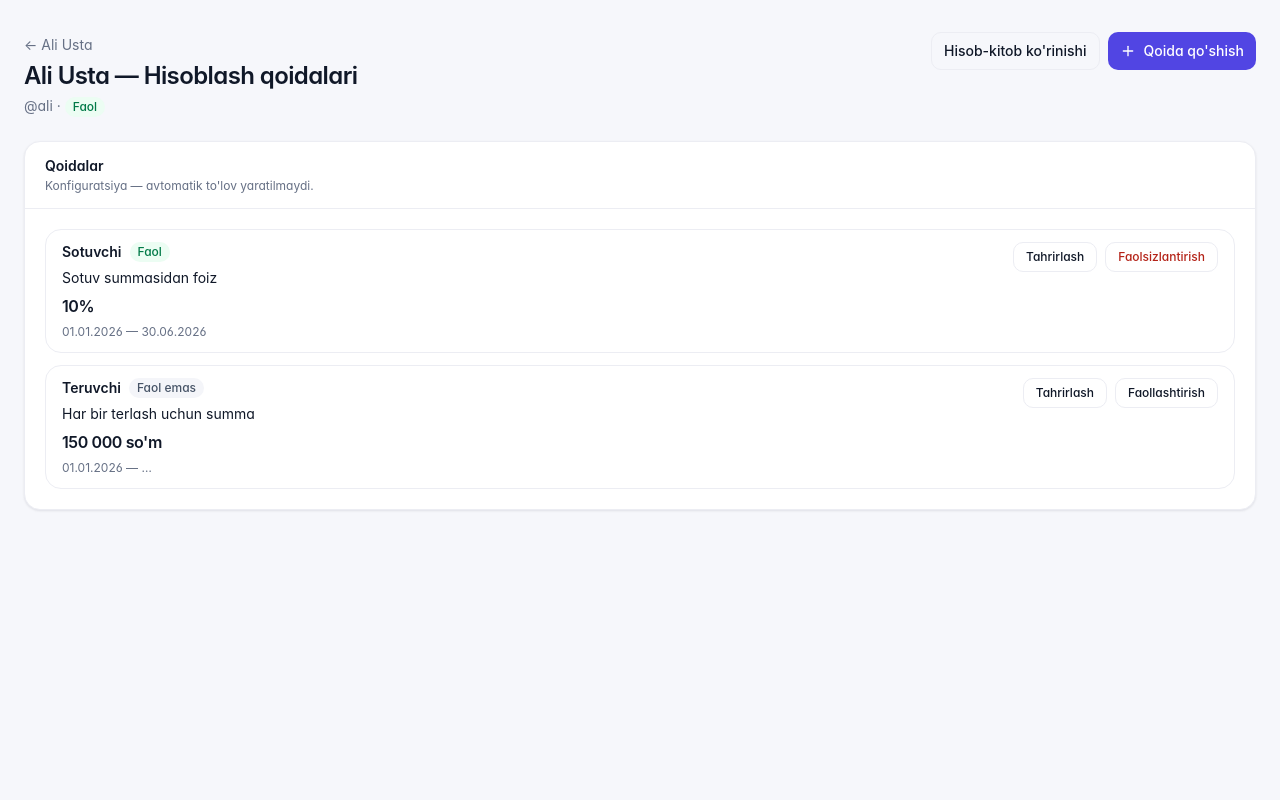
Test case: WorkerCompensationPage › creates a rule successfully and converts percent to basis points
This screenshot has width=1280, height=800.
Click the button "Qoida qo'shish" at point(1182, 51), box [1108,32,1256,70]
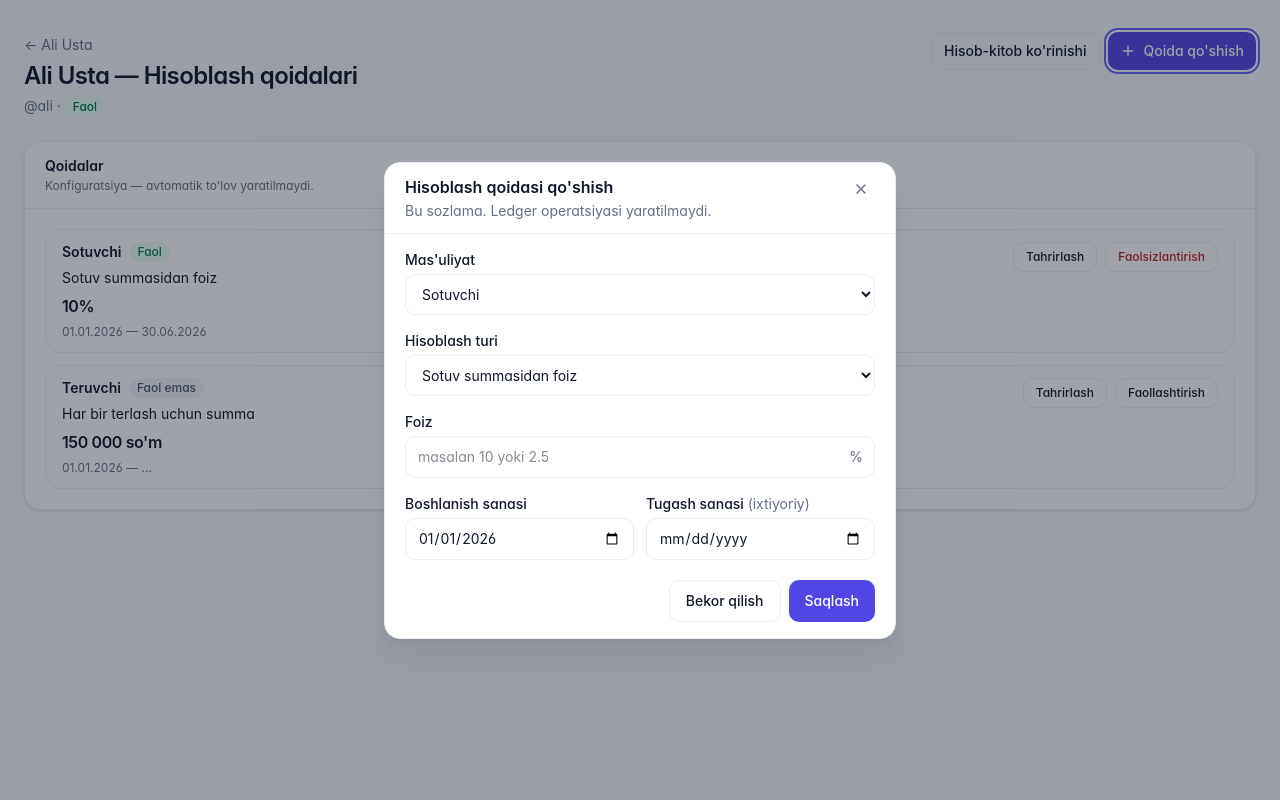
Select "Sotuvchi" in the dropdown labelled "Mas'uliyat" at point(640, 294), box [405,274,875,314]
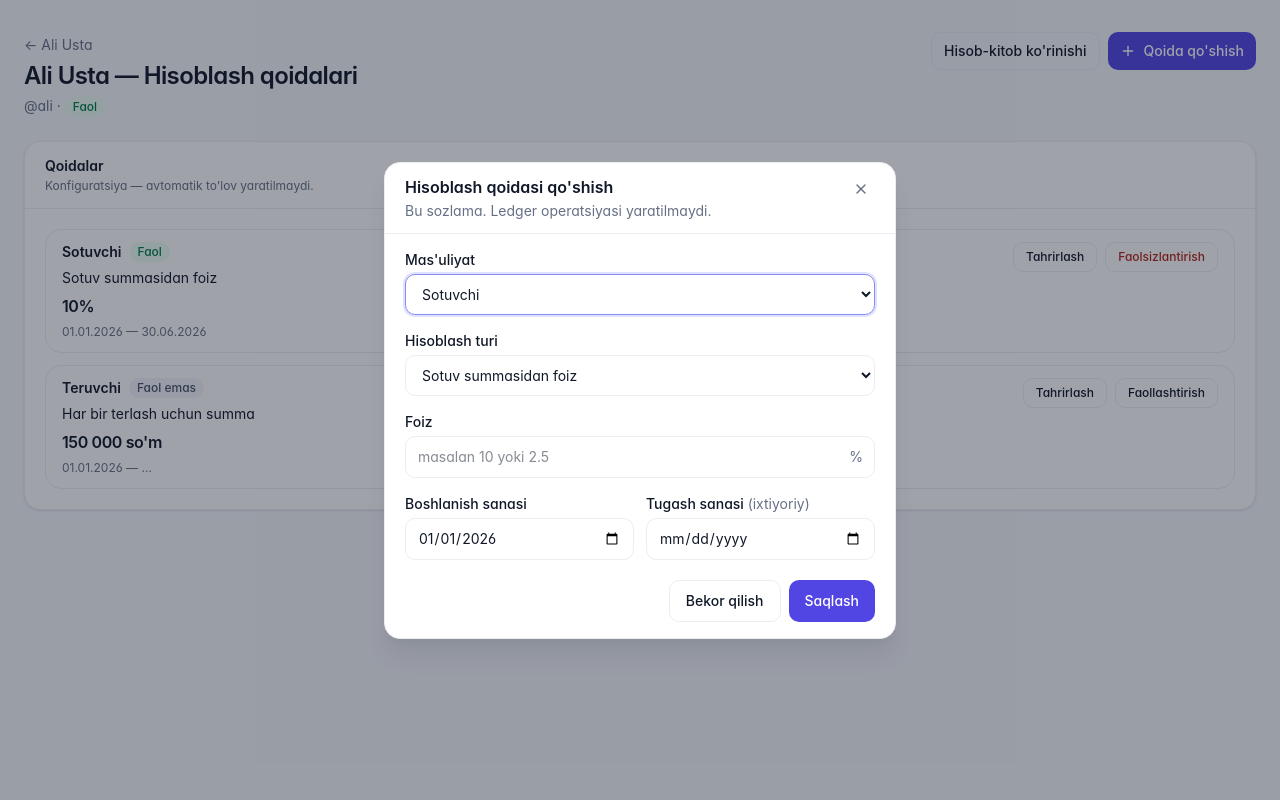
Select "Sotuv summasidan foiz" in the dropdown labelled "Hisoblash turi" at point(640, 375), box [405,354,875,396]
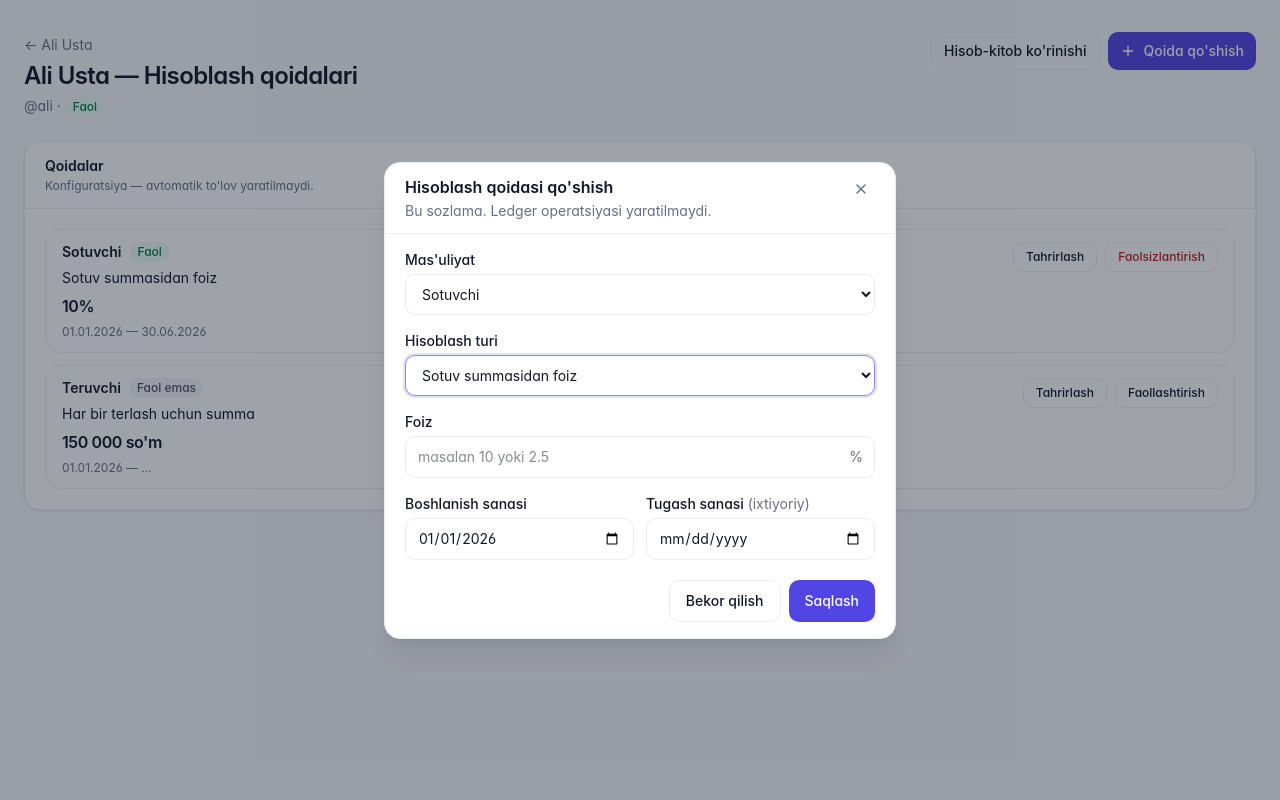
Type "12" into the field labelled "Foiz" at point(640, 456), box [405,436,875,478]
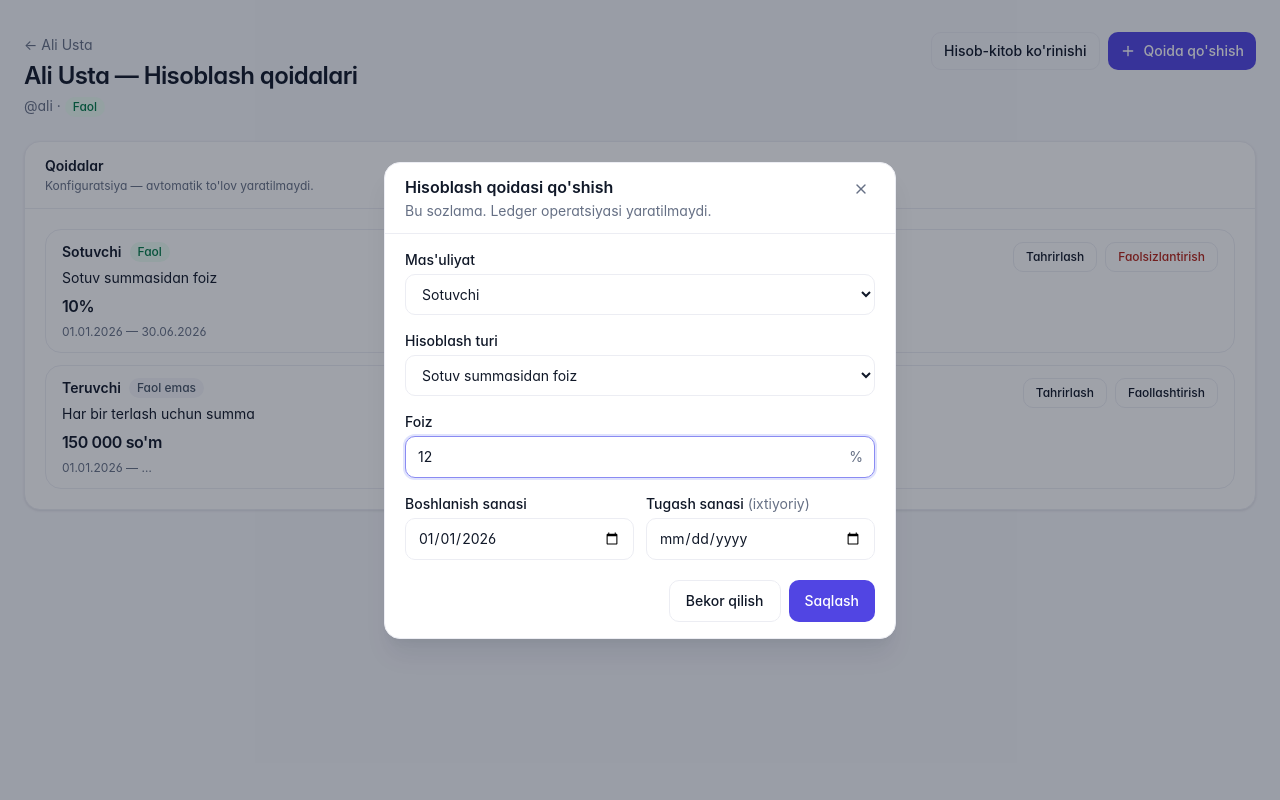
Click the button "Saqlash" at point(832, 600), box [788,580,875,622]
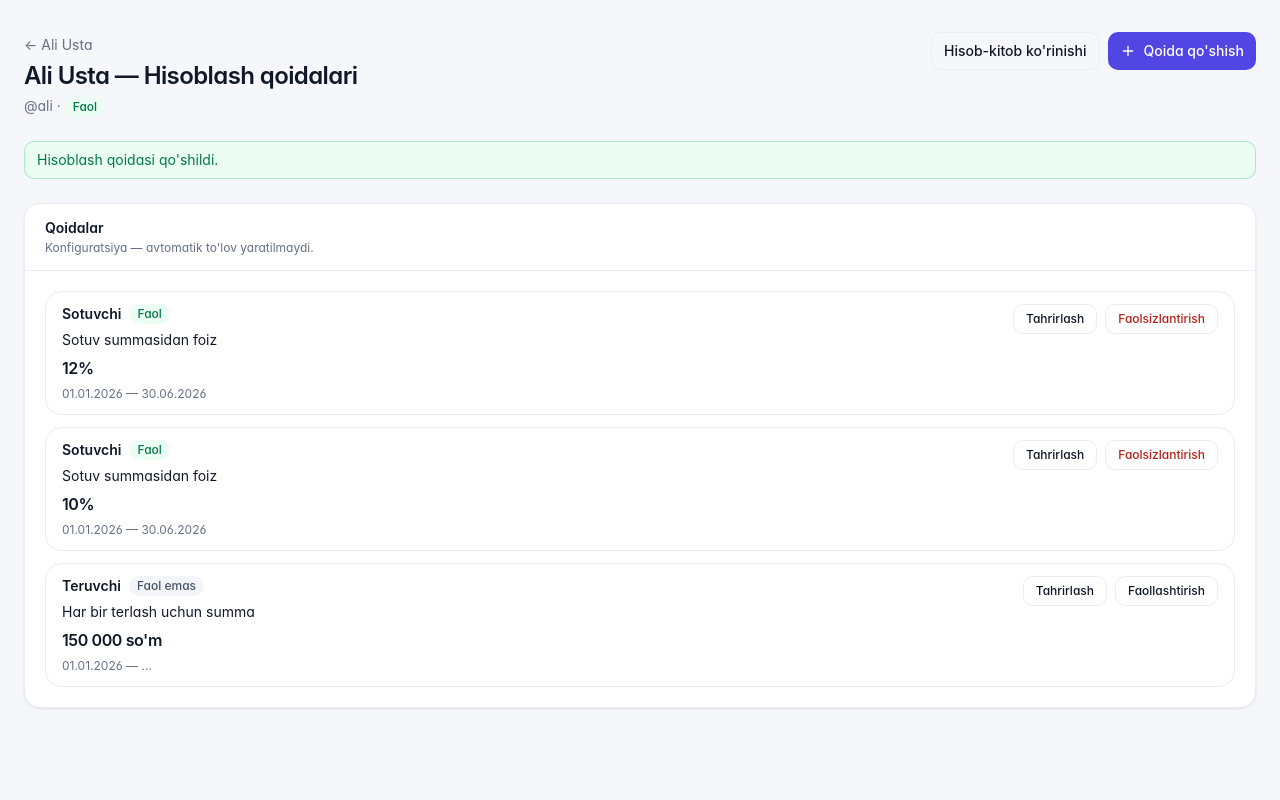
Check: the text "Hisoblash qoidasi qo'shildi." is shown, box [24,141,1256,179]
